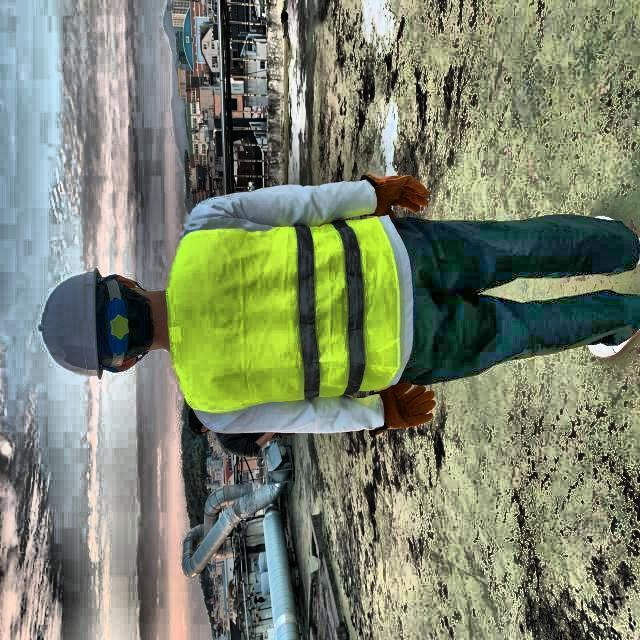safety_jacket: (166, 228, 412, 394)
